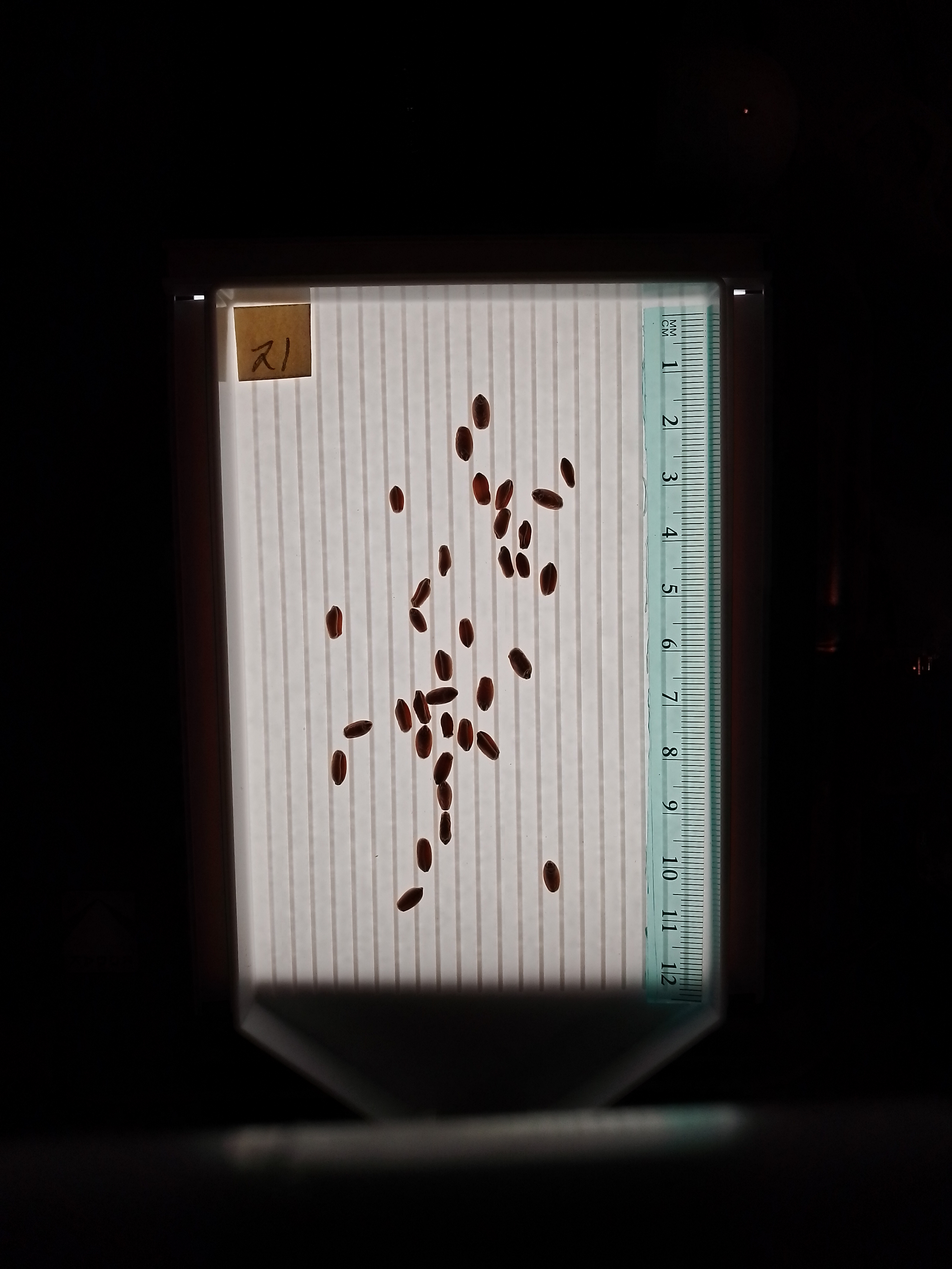seed mask: (509, 648, 532, 679), (533, 488, 563, 510), (476, 676, 494, 711), (397, 887, 423, 911), (433, 753, 453, 784), (477, 732, 499, 760), (455, 427, 473, 461), (472, 395, 490, 429), (473, 474, 491, 506), (427, 687, 456, 706), (412, 578, 431, 607), (331, 751, 347, 785), (395, 700, 412, 732), (326, 606, 343, 638), (435, 651, 453, 681), (540, 564, 557, 595), (495, 480, 513, 509), (344, 720, 371, 739), (543, 862, 560, 892), (417, 838, 432, 872), (457, 720, 474, 750), (414, 692, 430, 723), (416, 727, 432, 758), (494, 509, 510, 537), (560, 458, 575, 487), (459, 618, 474, 647), (389, 486, 405, 513), (410, 608, 427, 633), (439, 546, 453, 575), (499, 549, 513, 577), (438, 784, 453, 809), (519, 521, 532, 549), (440, 813, 452, 843), (441, 714, 454, 737), (517, 555, 530, 578)
